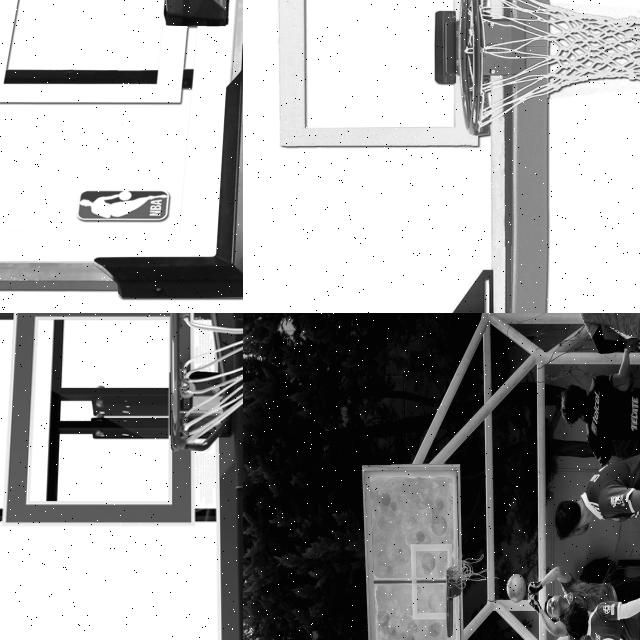backboard: (243, 0, 543, 313), (0, 313, 243, 640), (0, 0, 243, 297), (358, 465, 480, 640)
